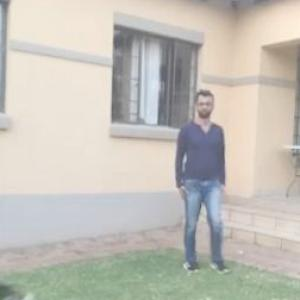follow: (160, 100, 216, 263)
